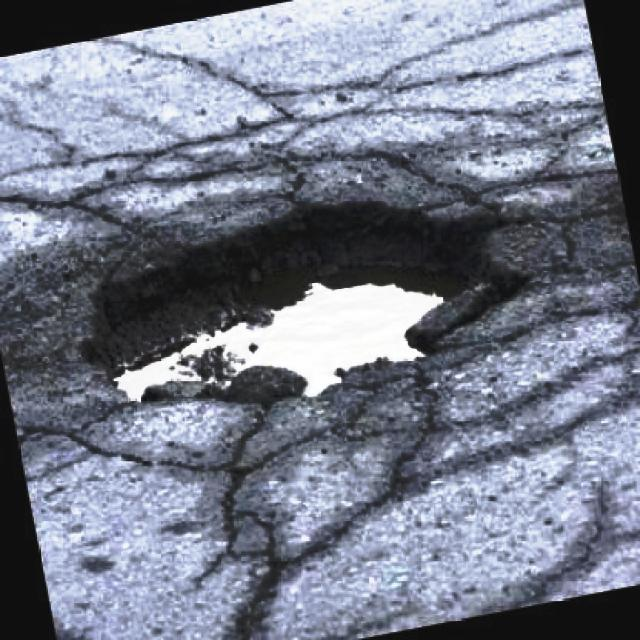pothole: (72, 192, 543, 410)
